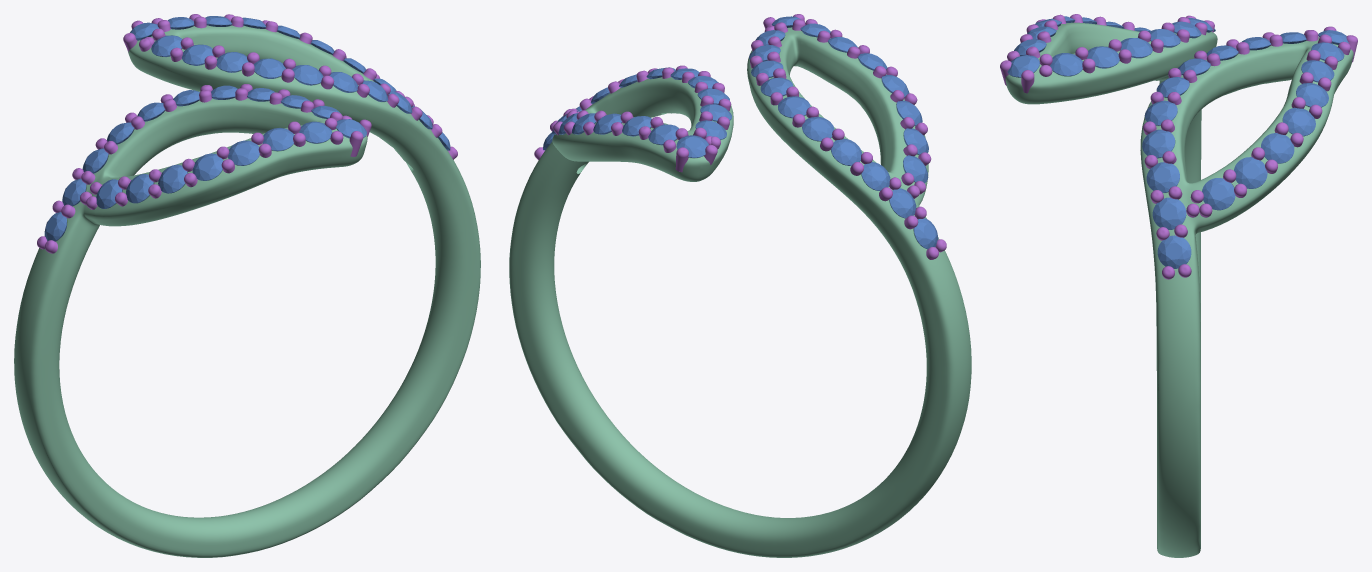
3 renders of one model, left to right at view 1: azimuth 30°, elevation 25°; view 2: azimuth 150°, elevation 25°; view 3: azimuth 270°, elevation 25°, orthographic. The views are drawn at different scales.
Parts seen in each view (by area): view 1: modelo 9.3dm, Gem (×5); view 2: modelo 9.3dm, Gem (×5); view 3: modelo 9.3dm, Gem (×16).
Part boxes in pixels (<box>): modelo 9.3dm: <box>14,14,480,557</box>; Gem (×5): <box>126,128,293,203</box>; modelo 9.3dm: <box>509,14,971,557</box>; Gem (×5): <box>802,116,938,249</box>; modelo 9.3dm: <box>1000,14,1357,557</box>; Gem (×16): <box>1007,37,1334,268</box>.
Bounding box in the file's own units: 2.56 × 2.57 × 1.7.
